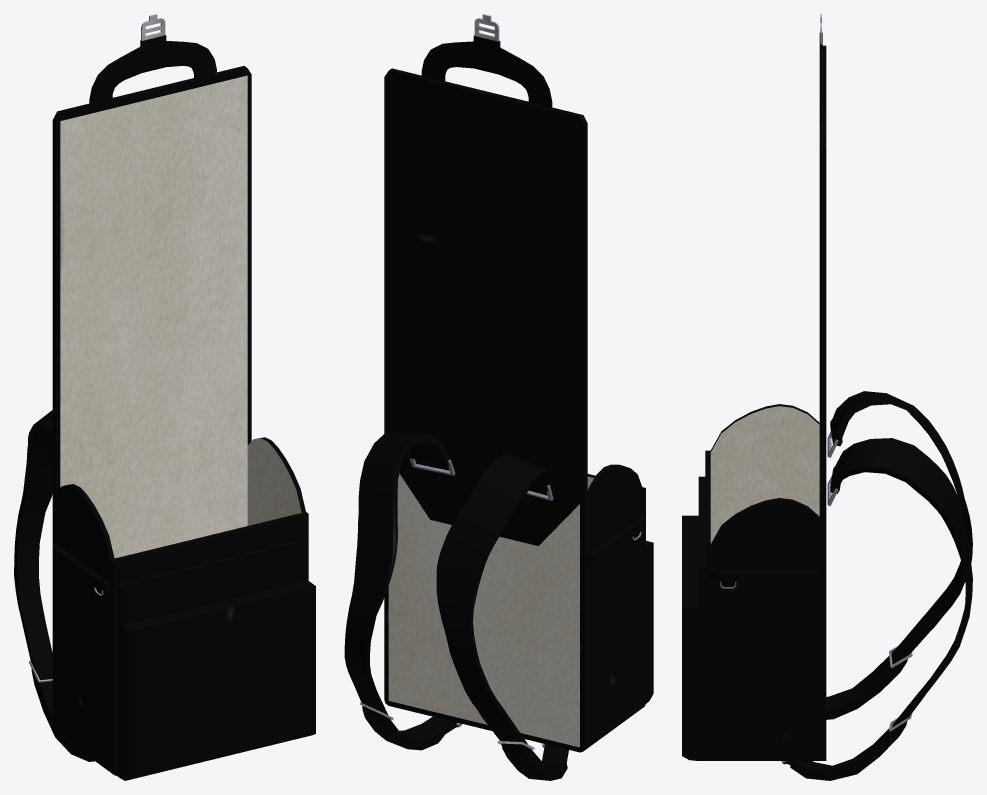
File: SchoolBag.fbx
The picture shows the model from 3 angles, left to right: view 1: azimuth 30°, elevation 25°; view 2: azimuth 150°, elevation 25°; view 3: azimuth 270°, elevation 25°; orthographic projection. The views are drawn at different scales.
Parts seen in each view (by area): view 1: pCube31, pCube29; view 2: pCube31, pCube29, pCube3; view 3: pCube31, pCube3, pCube29.
Boxes of the visible parts, <box> form: pCube31: <box>52,14,315,780</box>; pCube29: <box>14,410,94,761</box>; pCube31: <box>384,14,653,752</box>; pCube29: <box>436,453,568,780</box>; pCube3: <box>344,432,458,750</box>; pCube31: <box>682,14,826,760</box>; pCube3: <box>782,438,972,780</box>; pCube29: <box>826,391,972,719</box>.
Size of the model in its own units: 25.97 by 86.96 by 31.35.
